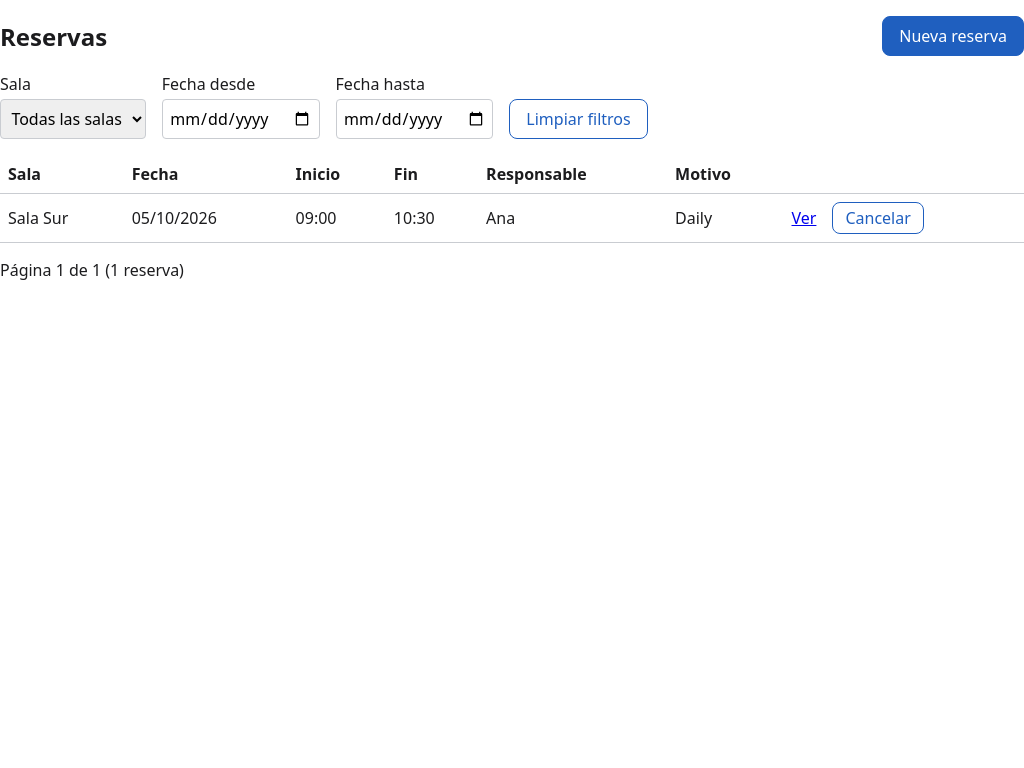
Test: ReservaListComponent › ver y cancelar › «Cancelar» abre el diálogo de confirmación sin enviar DELETE
Click the button "Cancelar" at (878, 218), box [832,202,924,234]
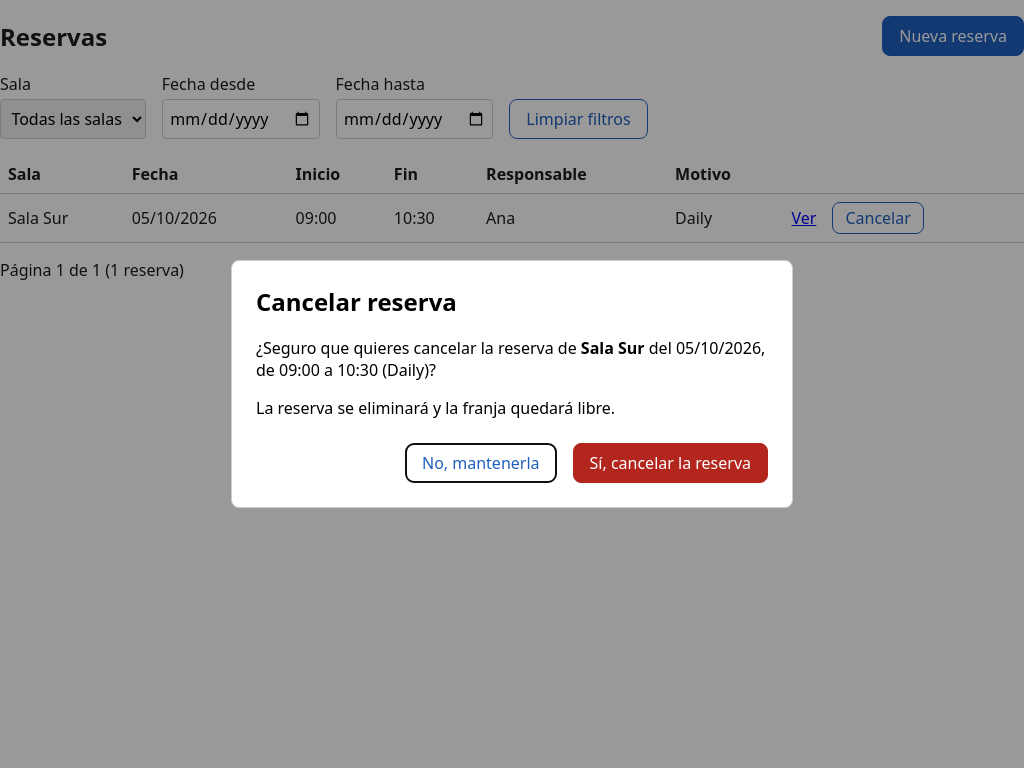
Result: the dialog shows "Sala Sur" at [581,338,645,360]
